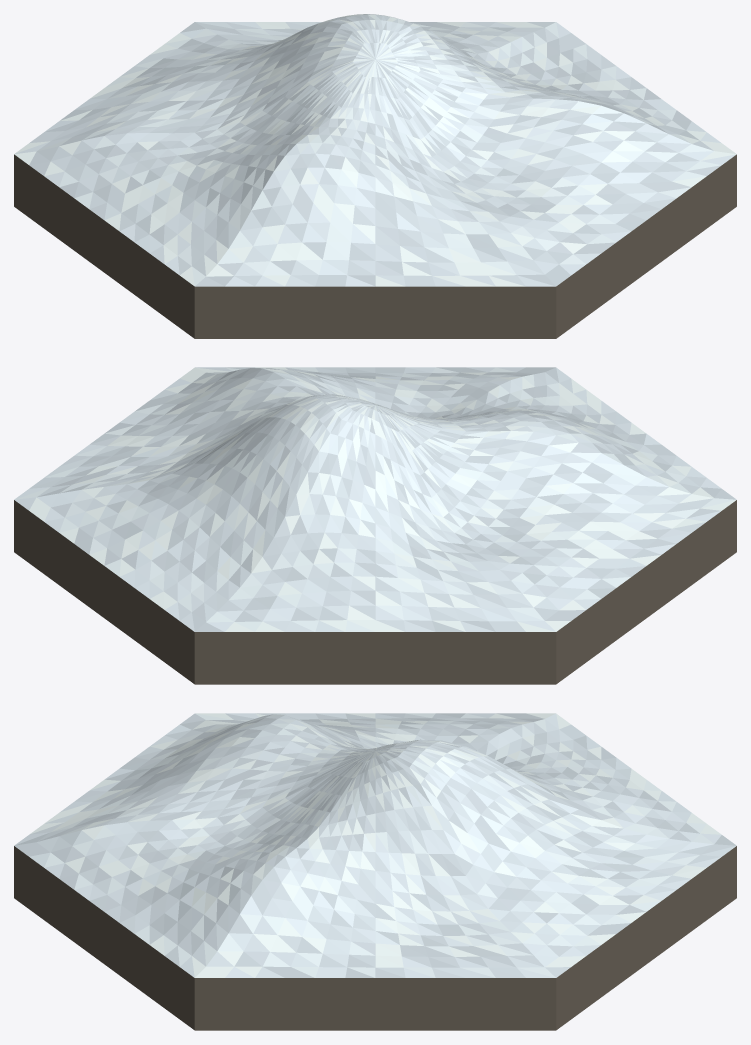
Rendered from TERRAIN_SNOW_HILLS_v01.fbx.
The picture shows the model from 3 angles, top to bottom: view 1: azimuth 30°, elevation 25°; view 2: azimuth 150°, elevation 25°; view 3: azimuth 270°, elevation 25°; orthographic projection.
Parts seen in each view (by area): view 1: TERRAIN_SNOW_HILLS_v01; view 2: TERRAIN_SNOW_HILLS_v01; view 3: TERRAIN_SNOW_HILLS_v01.
Boxes of the visible parts, <box> form: TERRAIN_SNOW_HILLS_v01: <box>14,14,736,338</box>; TERRAIN_SNOW_HILLS_v01: <box>14,367,736,684</box>; TERRAIN_SNOW_HILLS_v01: <box>14,713,736,1030</box>.
Bounding box in the file's own units: 173 × 49.43 × 200.
